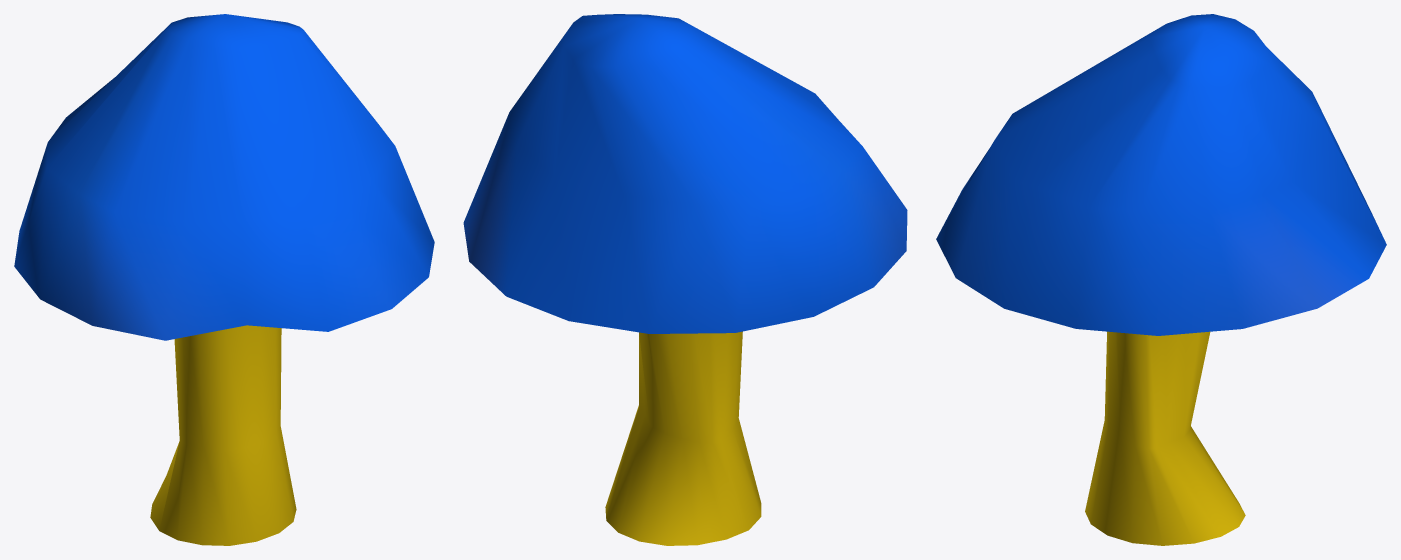
File: mushroom.fbx
The picture shows the model from 3 angles, left to right: view 1: azimuth 30°, elevation 25°; view 2: azimuth 150°, elevation 25°; view 3: azimuth 270°, elevation 25°; orthographic projection. The views are drawn at different scales.
Parts seen in each view (by area): view 1: PM3D_Arrow3D1; view 2: PM3D_Arrow3D1; view 3: PM3D_Arrow3D1.
Boxes of the visible parts, bbox=[...] form: PM3D_Arrow3D1: bbox=[14, 14, 434, 545]; PM3D_Arrow3D1: bbox=[463, 14, 907, 545]; PM3D_Arrow3D1: bbox=[936, 14, 1386, 545].
Size of the model in its own units: 59.29 by 74.29 by 60.56.
